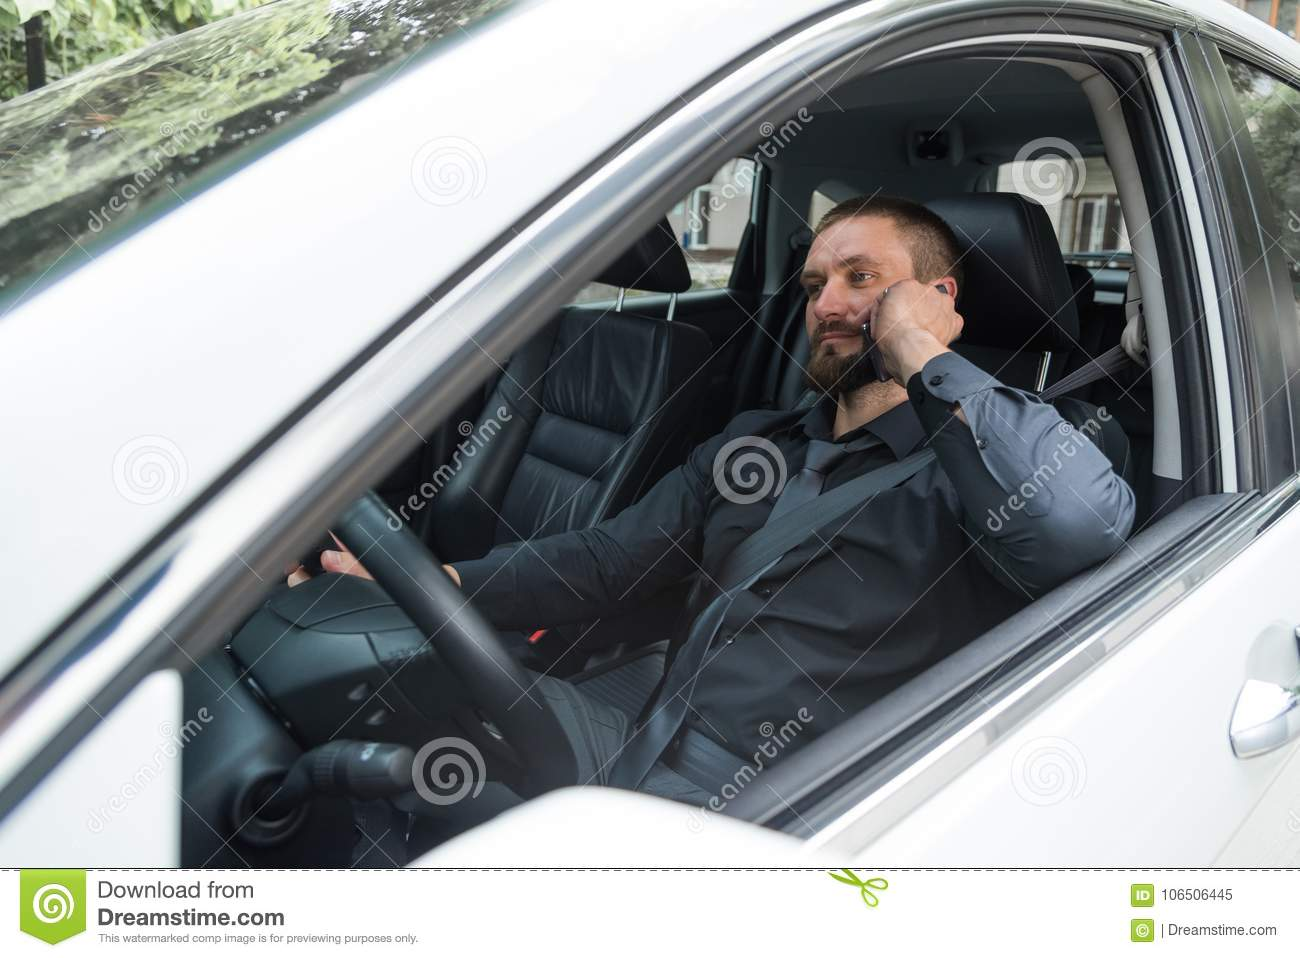phone: (862, 283, 954, 386)
talk: (802, 261, 963, 394)
